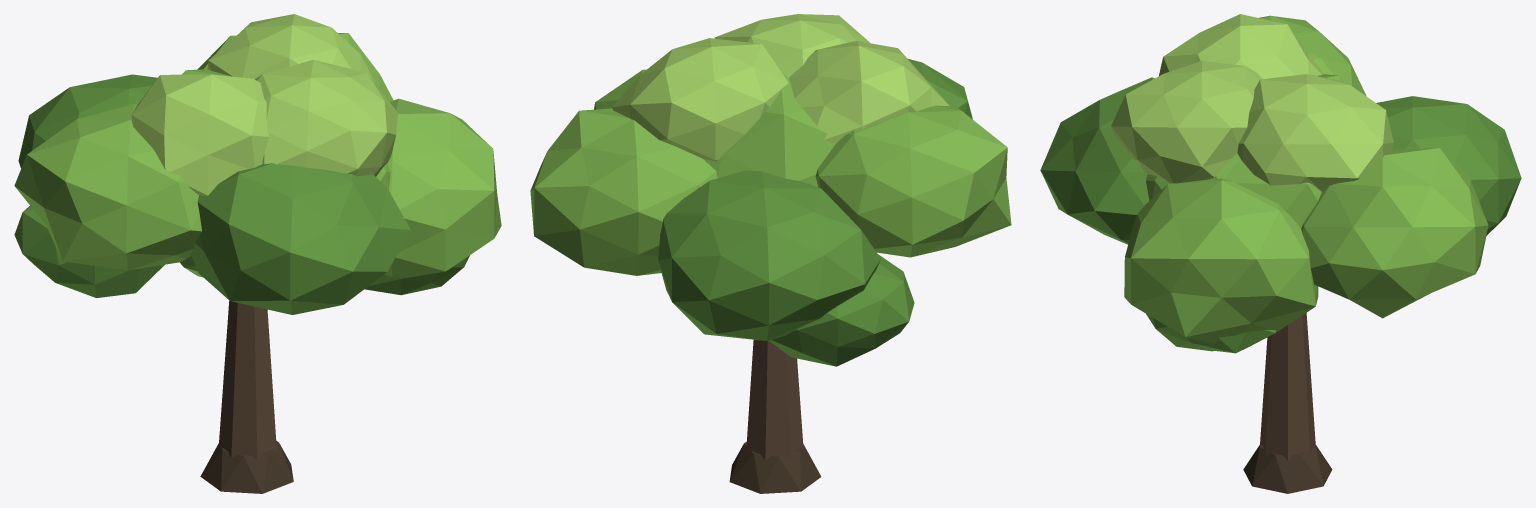
Rendered from tree.obj.
3 renders of one model, left to right at view 1: azimuth 30°, elevation 25°; view 2: azimuth 150°, elevation 25°; view 3: azimuth 270°, elevation 25°, orthographic. The views are drawn at different scales.
Size of the model in its own units: 5.49 by 5.49 by 5.72.
